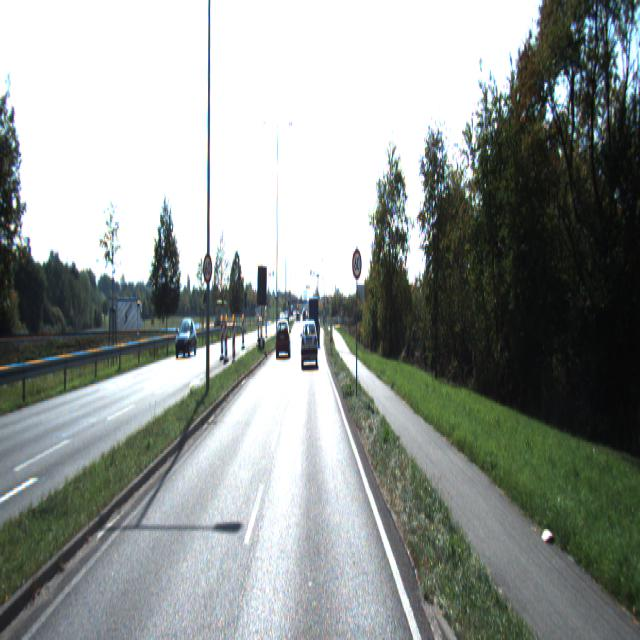Car: (175, 319, 197, 360), (301, 322, 318, 368), (275, 316, 291, 356), (308, 297, 320, 346)
